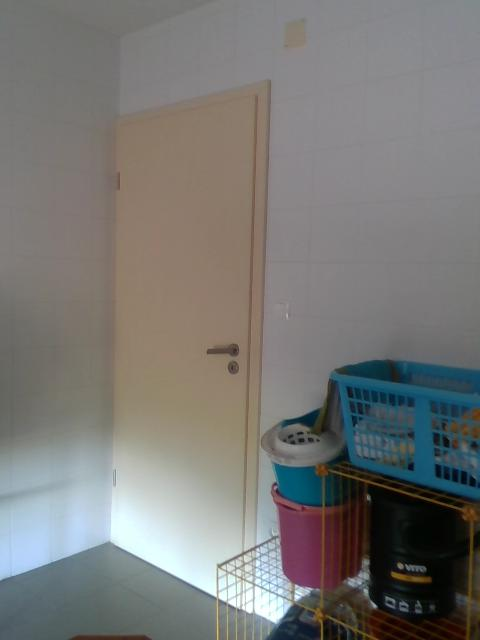door: (110, 91, 256, 612)
